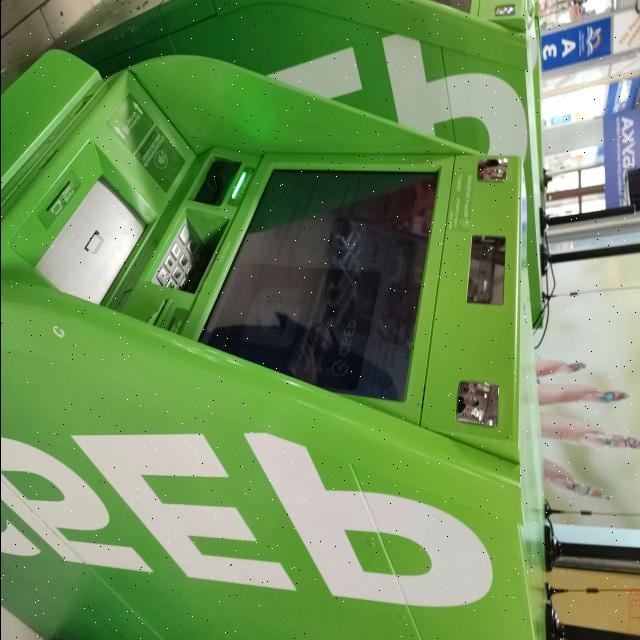bank: (0, 37, 558, 640), (55, 0, 540, 322)
